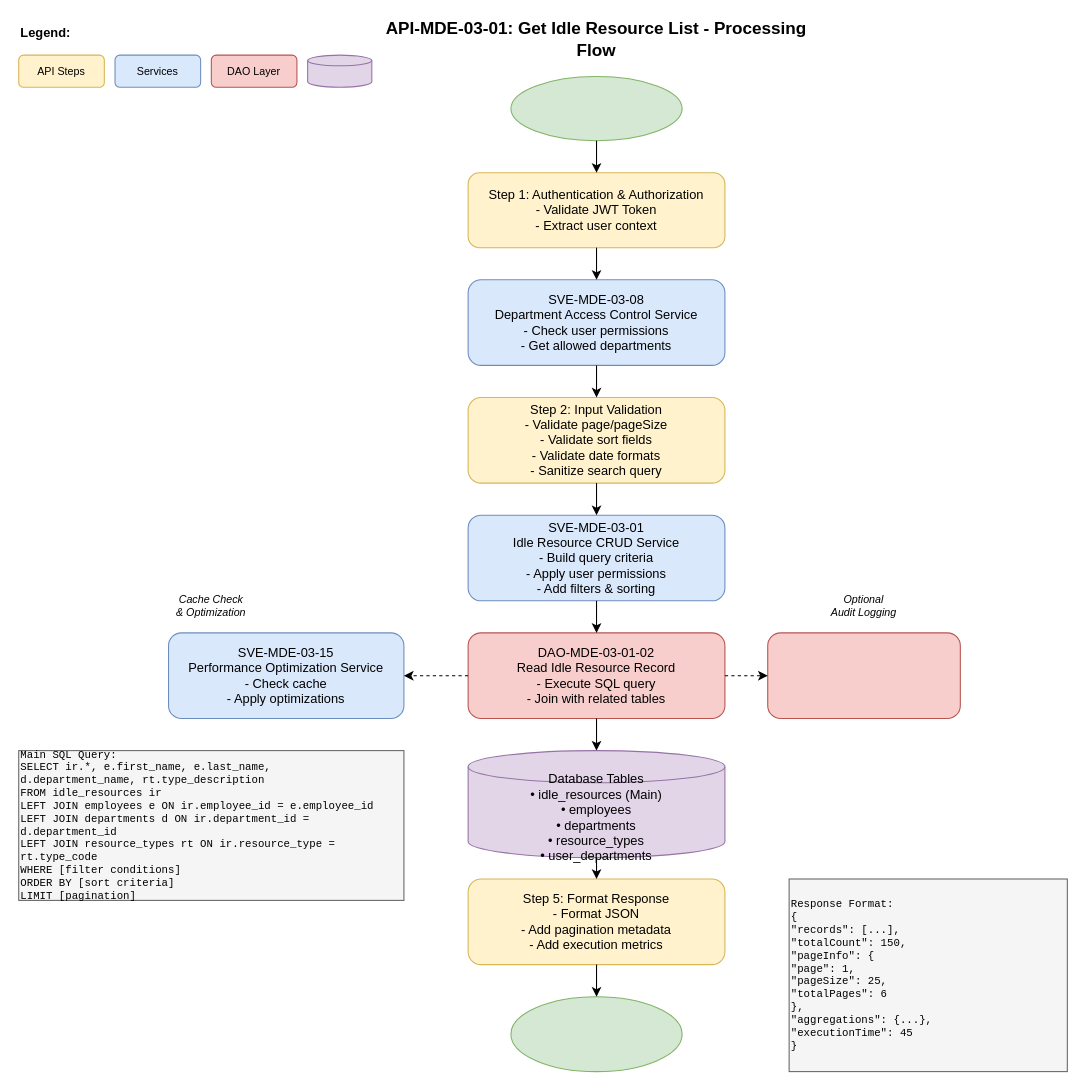
Some shapes in this 1086 by 1090 pixel diagram are drawn without their labels. The box of each missing label's shape, as (x1, y1, x2, y2) in pixels:
DAO-MDE-03-04-01 Create Audit Entry - Log access - Record operation: (767, 632, 960, 719)
Database: (307, 54, 372, 87)
RETURN JSON Response {records, totalCount, pageInfo}: (510, 996, 682, 1072)
START HTTP GET /api/v1/idle-resources: (510, 75, 682, 141)
